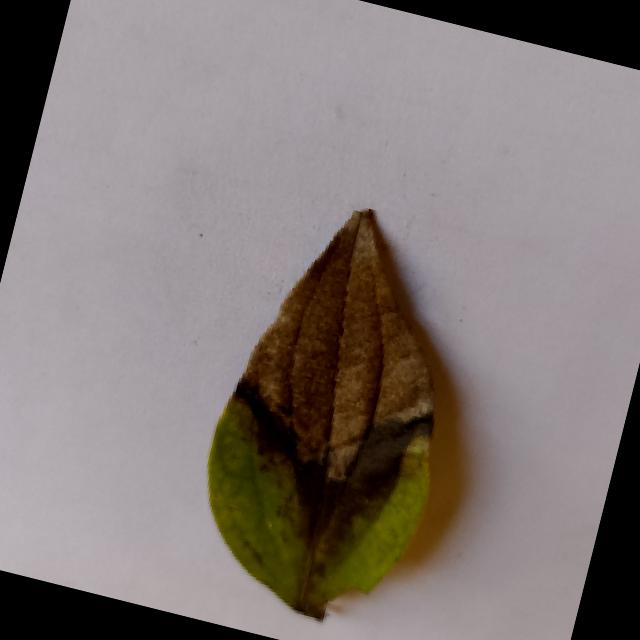footrot: (157, 183, 504, 640)
